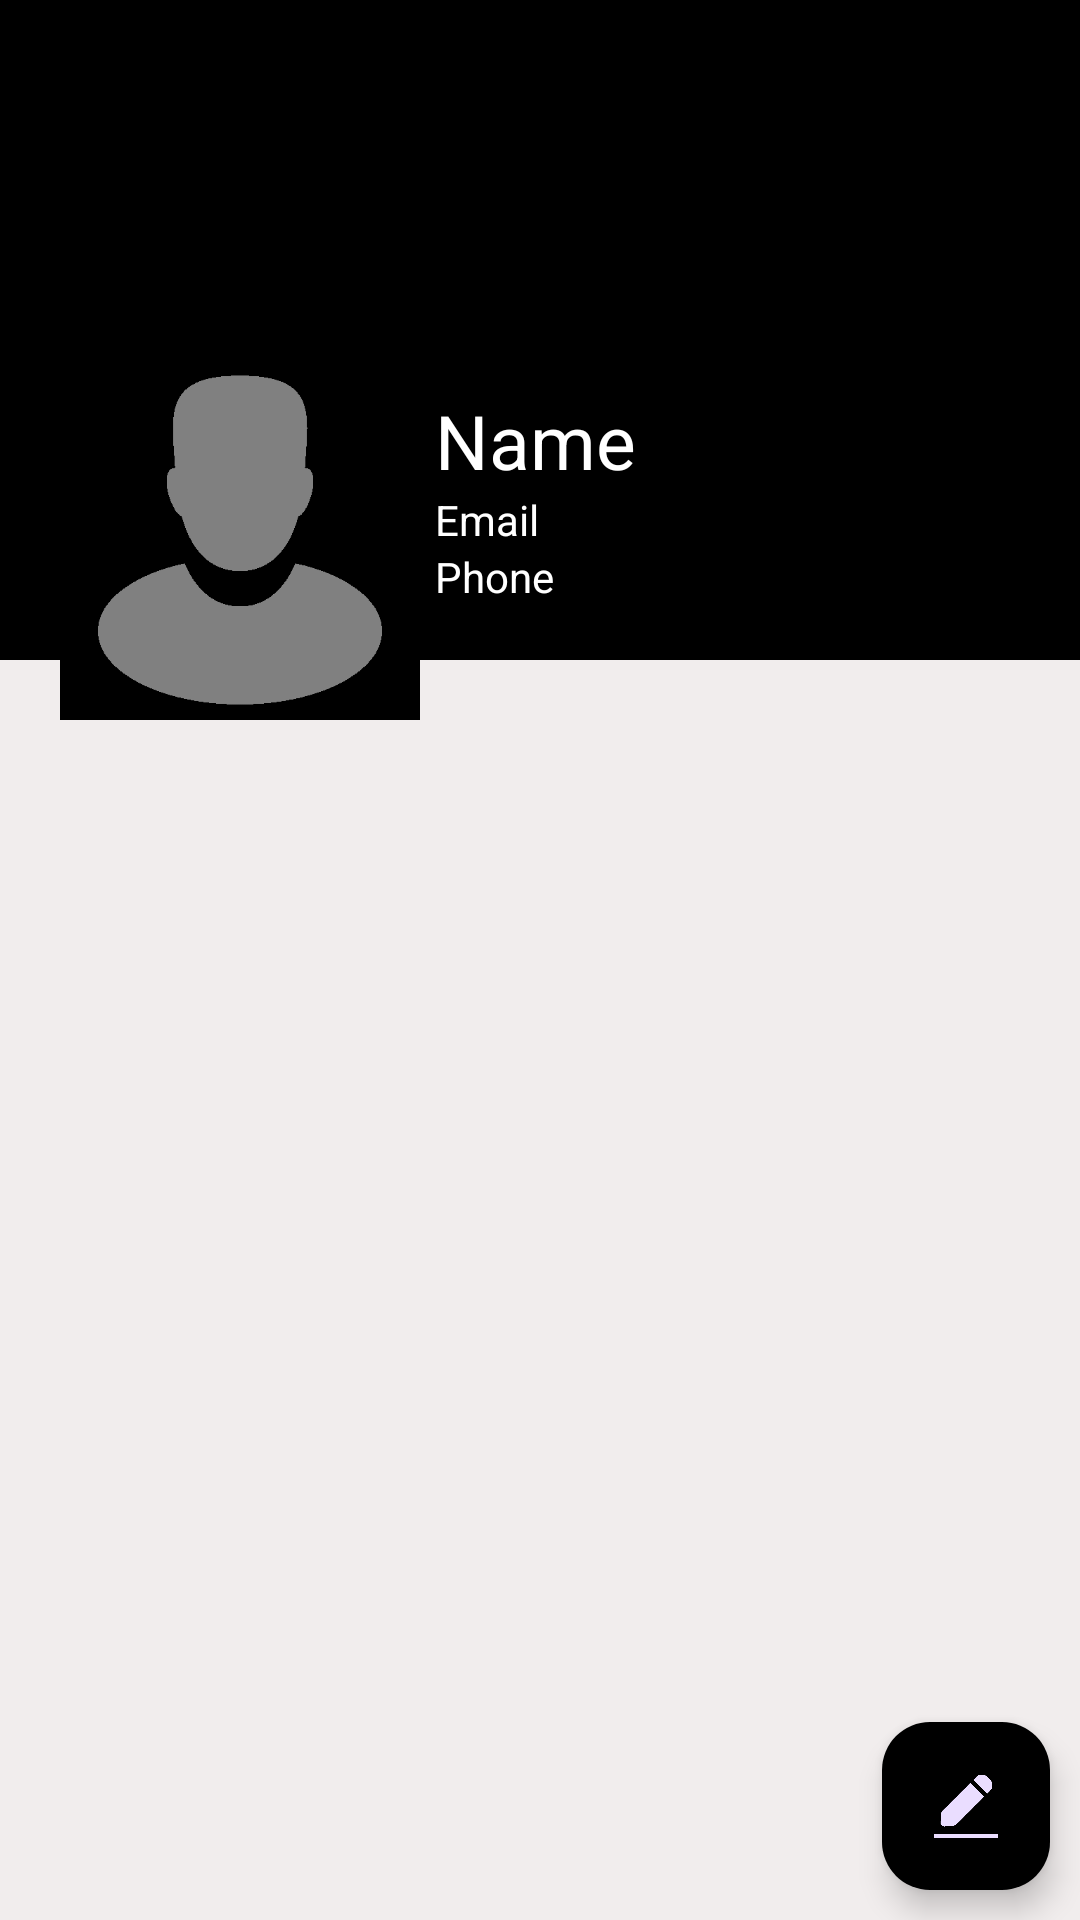

Icon bounding boxes for this 1080×1920 phone screenshot, format [x1,y1,x2,y2]:
edit icc: [882,1722,1050,1890]
Profile Pic: [98,375,382,705]
